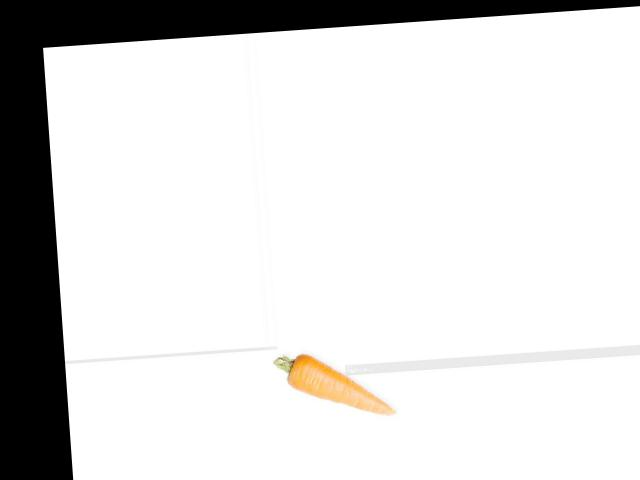carrot: (273, 345, 397, 425)
